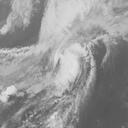cyclone: (39, 30, 86, 92)
